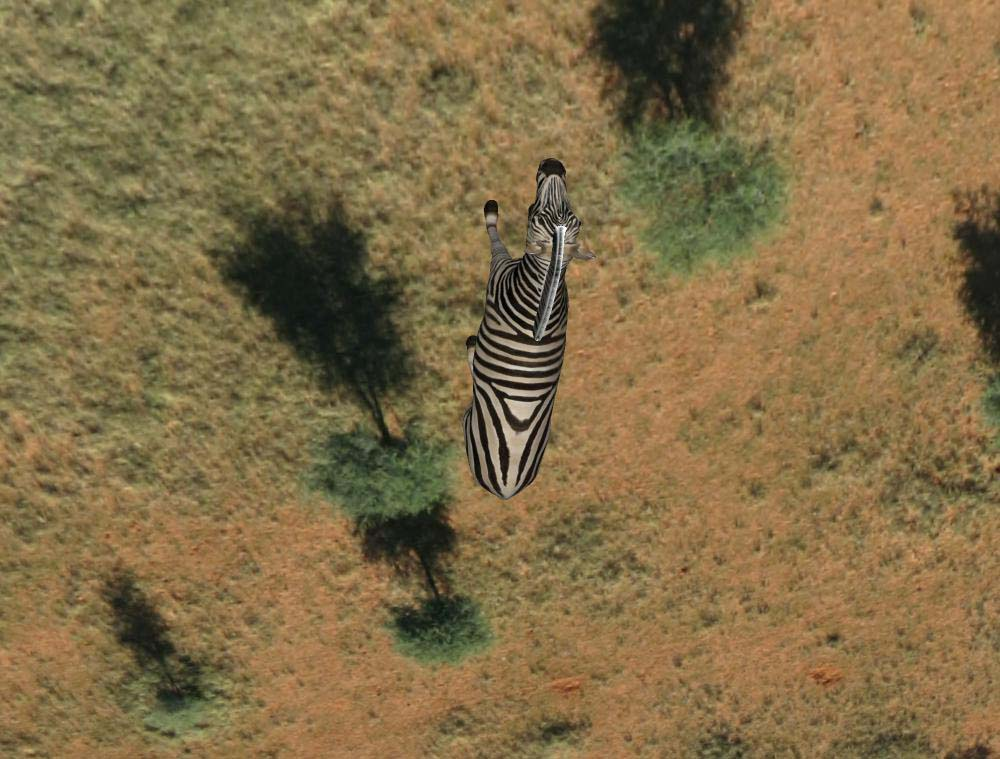zebra: (461, 156, 579, 507)
